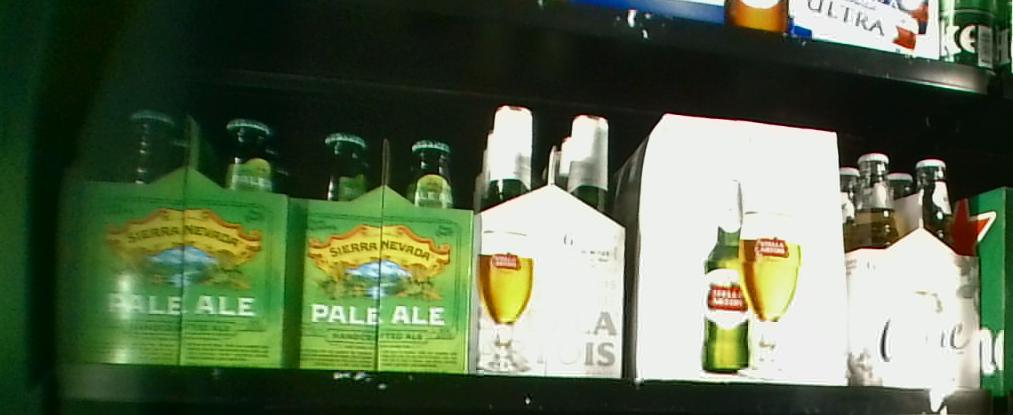bottle: (630, 115, 847, 380), (87, 112, 294, 368), (296, 128, 470, 373), (476, 100, 623, 379), (847, 147, 986, 388)
